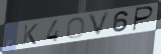4: (43, 19, 62, 43)
6: (112, 10, 131, 34)
K: (21, 22, 39, 46)
O: (66, 16, 87, 40)
P: (131, 5, 155, 32)
V: (87, 10, 113, 39)
